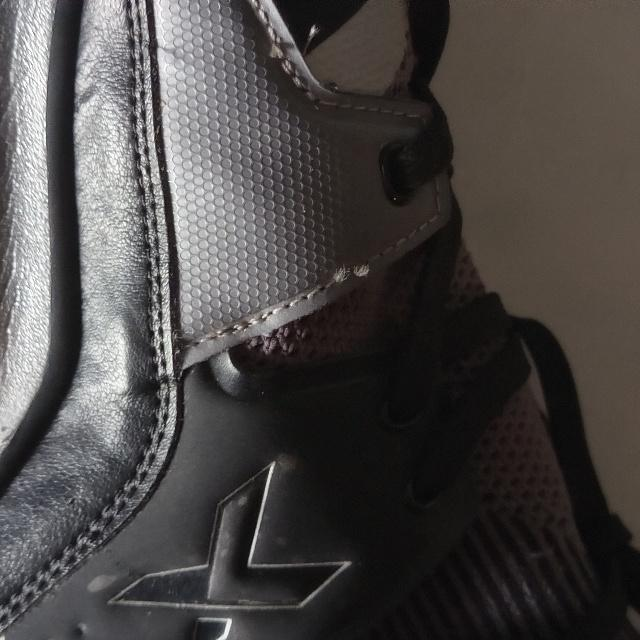broken-error: (328, 262, 378, 291)
